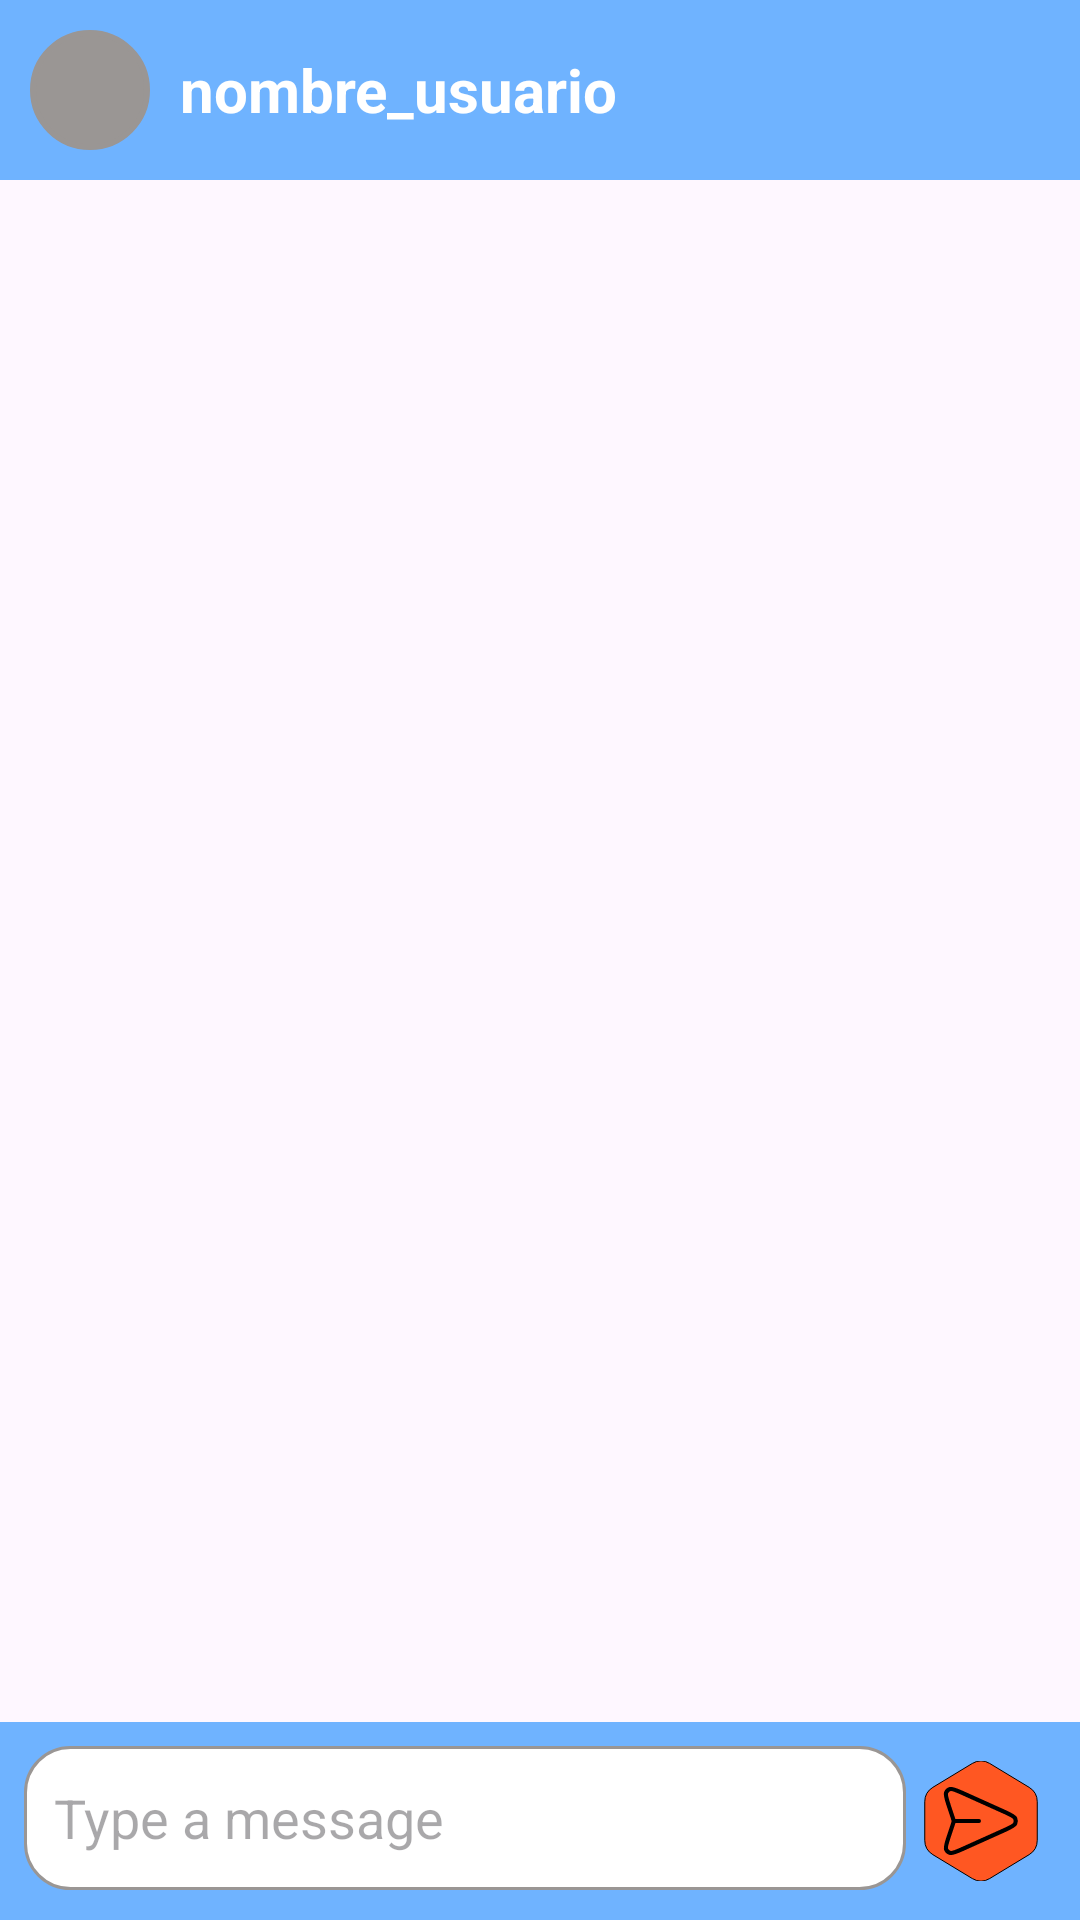

Icon bounding boxes for this 1080px x 1920px phone screenshot, format bbox(x1, y1, x2, y2):
Send Message: bbox(924, 1761, 1038, 1881)
